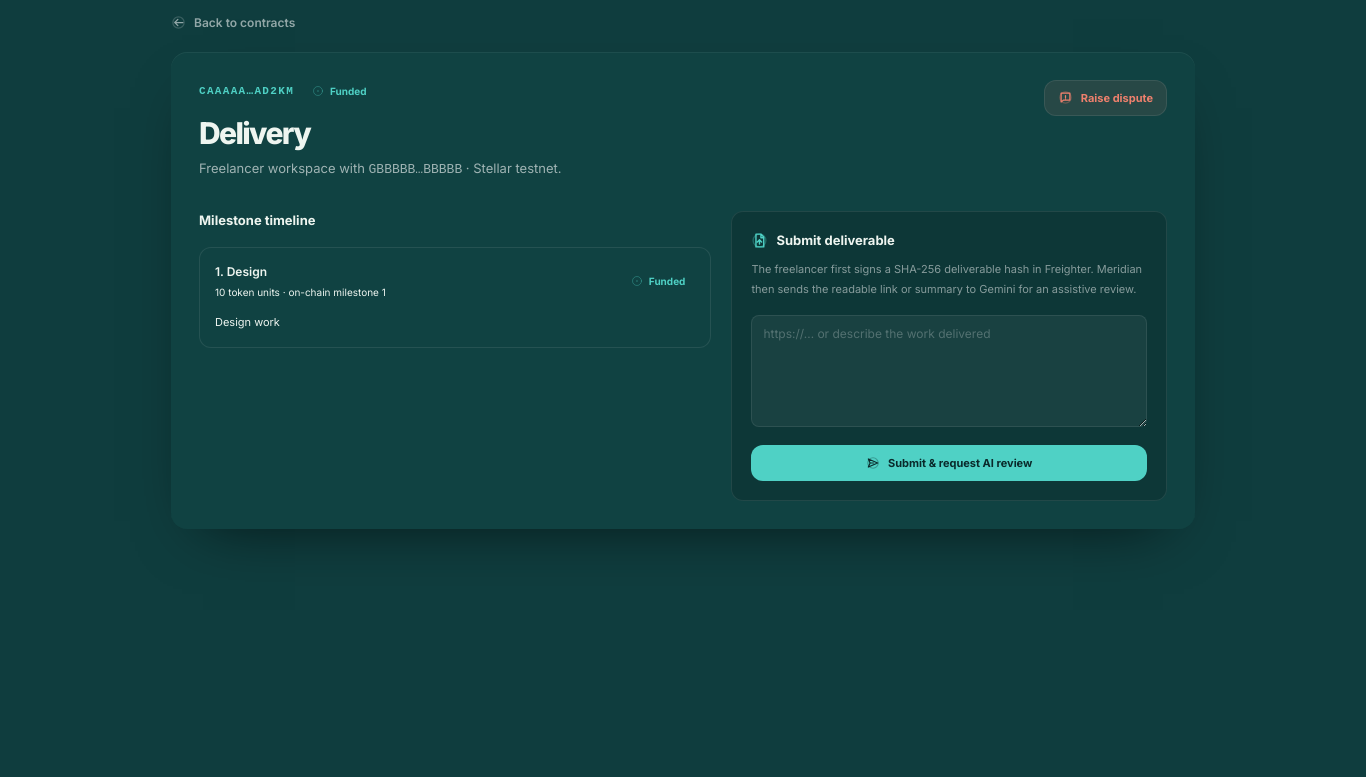
Test case: renders an AI review after a signed submission
Check: the heading "Delivery" is shown, box [199,114,310,150]
Type "https://figma.com/file/demo" into the text box with placeholder "https://… or describe the work delivered" at (949, 370), box [751,314,1147,426]
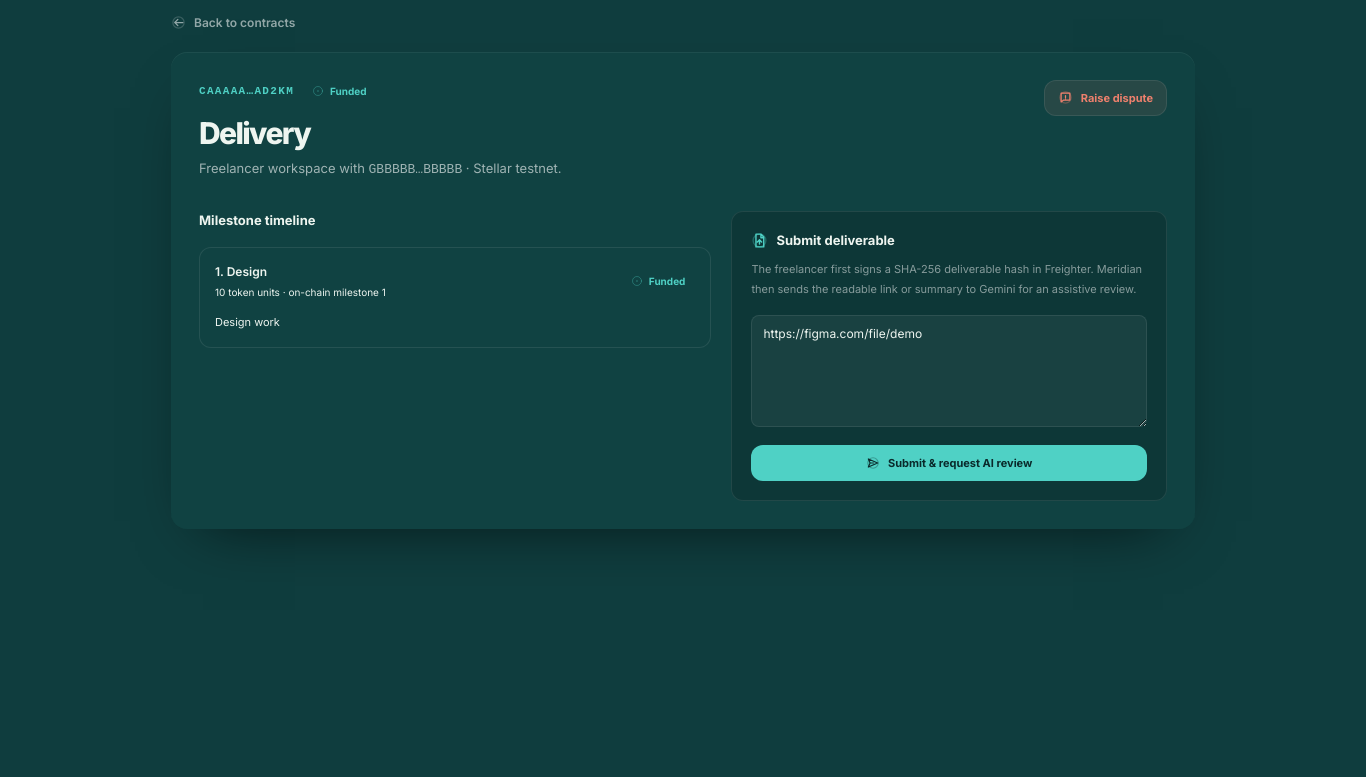
Click the button "Submit & request AI review" at (949, 463), box [751,444,1147,481]
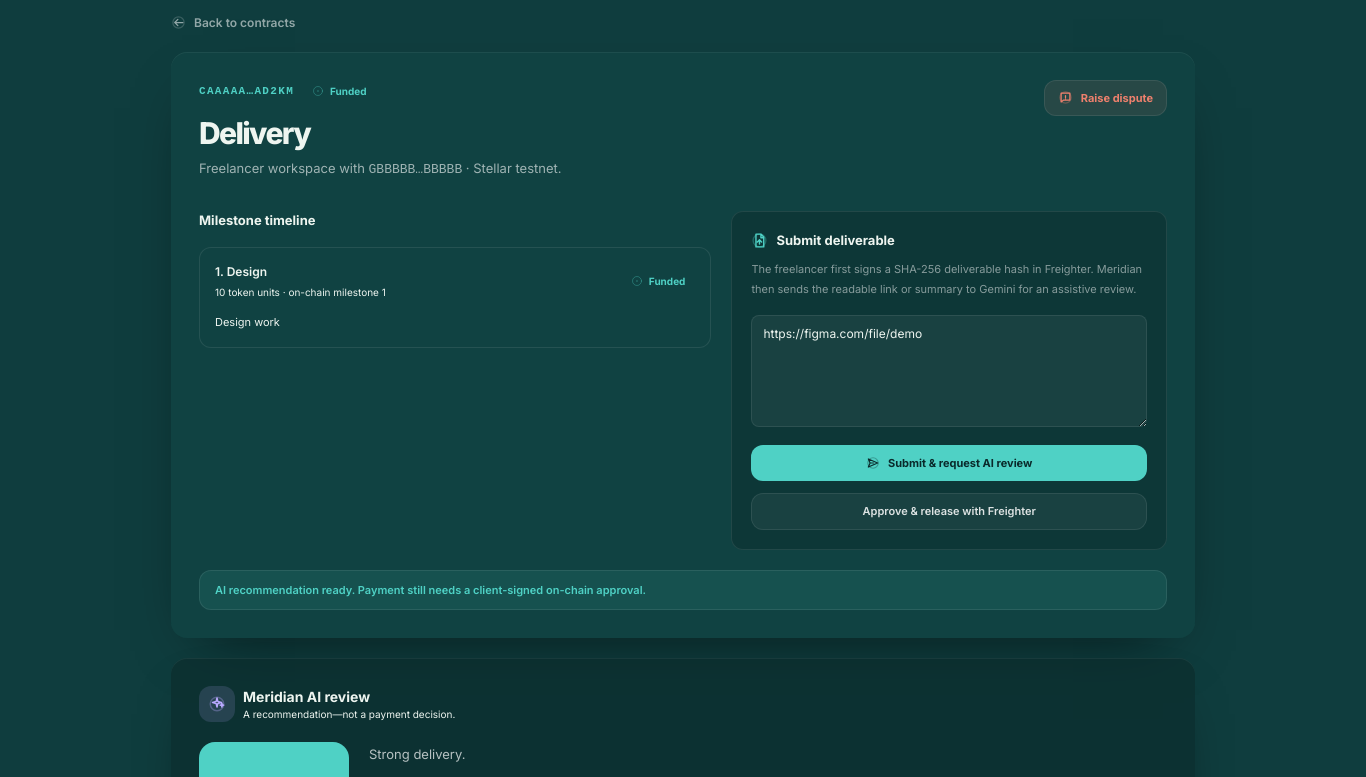
Check: the heading "Meridian AI review" is shown, box [243,688,370,705]
